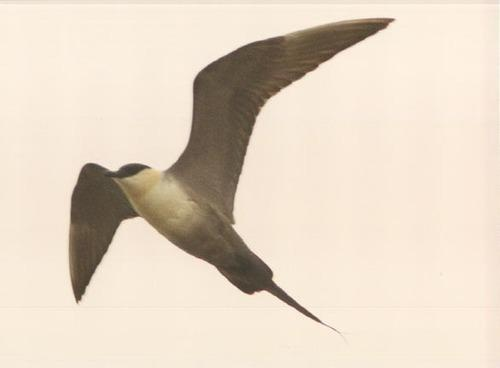bird: (68, 19, 396, 330)
